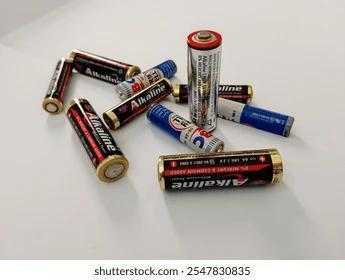AA: (155, 146, 285, 194), (63, 96, 130, 184), (144, 102, 226, 153), (100, 77, 176, 131), (186, 28, 224, 135)
